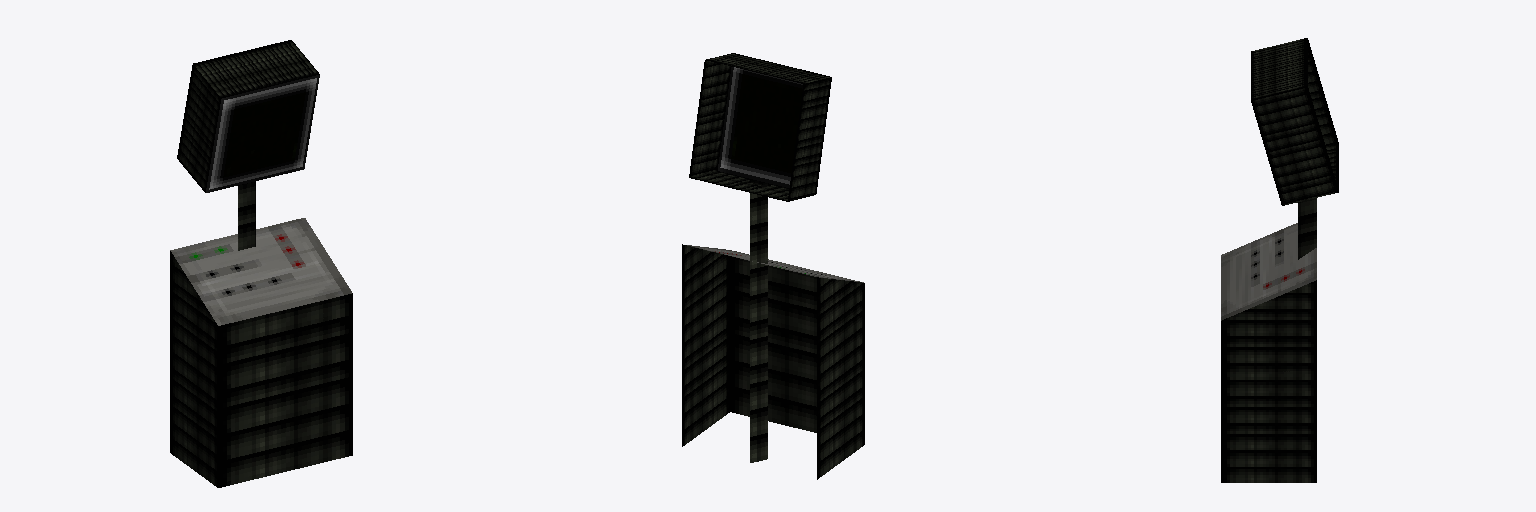
3 views of the same model, side by side, from view 1: azimuth 30°, elevation 25°; view 2: azimuth 150°, elevation 25°; view 3: azimuth 270°, elevation 25° (orthographic).
Visible parts, largest first — view 1: hospitalprops2; view 2: hospitalprops2; view 3: hospitalprops2.
Part boxes in pixels (left/top/right/bottom): hospitalprops2: left=170, top=40, right=352, bottom=487; hospitalprops2: left=682, top=53, right=864, bottom=479; hospitalprops2: left=1221, top=38, right=1338, bottom=482.
Bounding box in the file's own units: 1.52 × 4.19 × 1.16.
Materials: 3 (3 with a texture image).